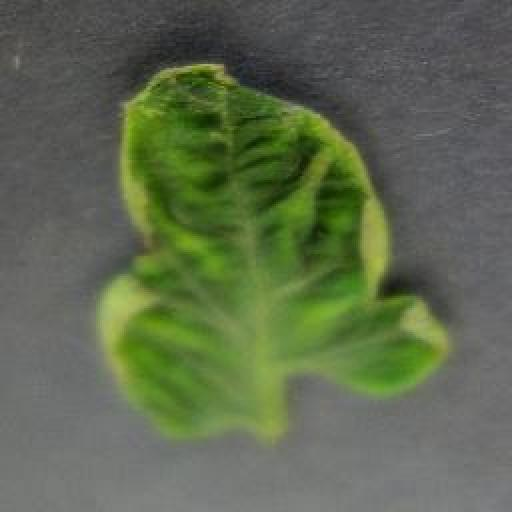disease_tomato: (96, 60, 450, 442)
